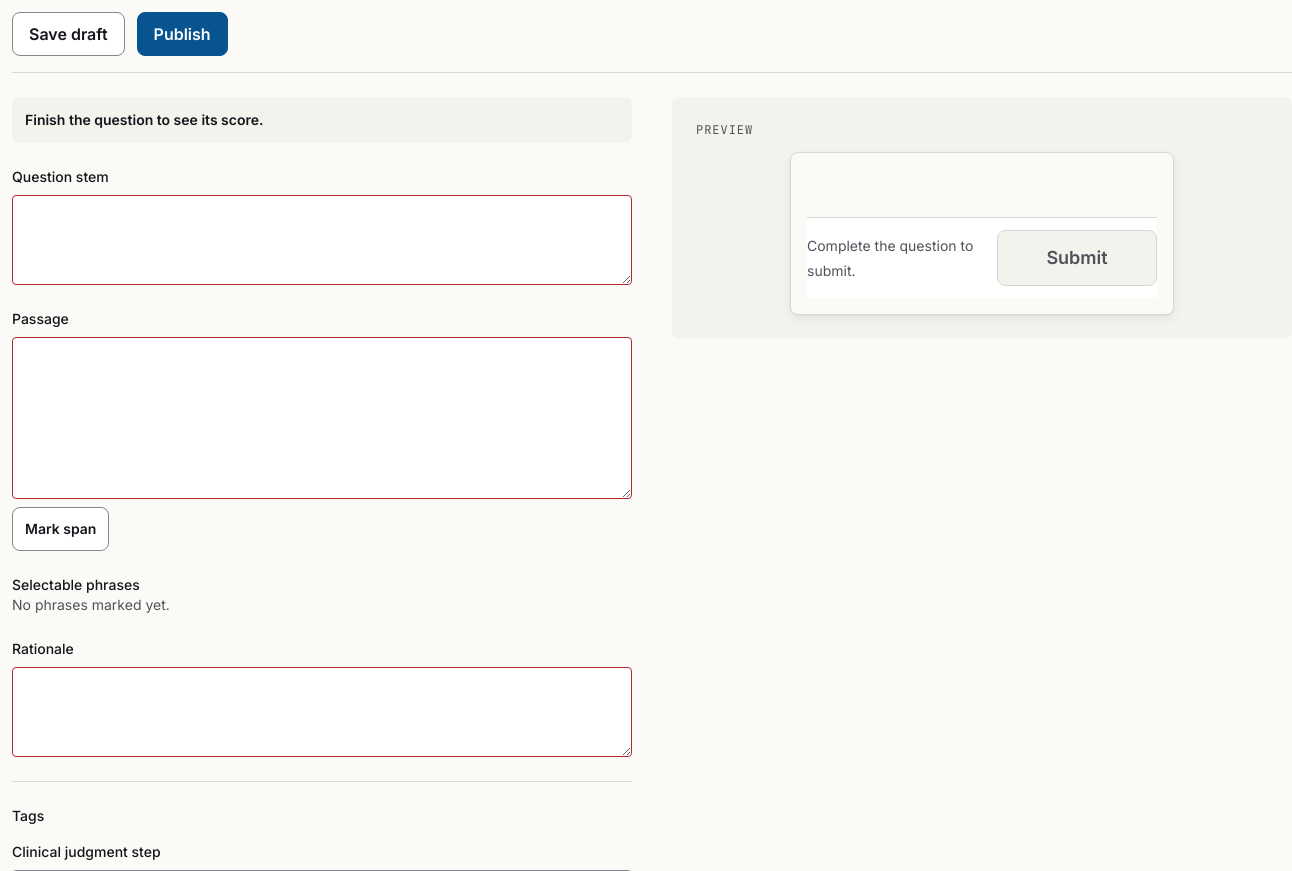
Test: HighlightTextEditor › says to select a phrase first when nothing is selected
What coordinates should you click on to do the following:
click the button "Mark span"
I would click on:
 (61, 529)
Its box is 12,507 -> 109,551.
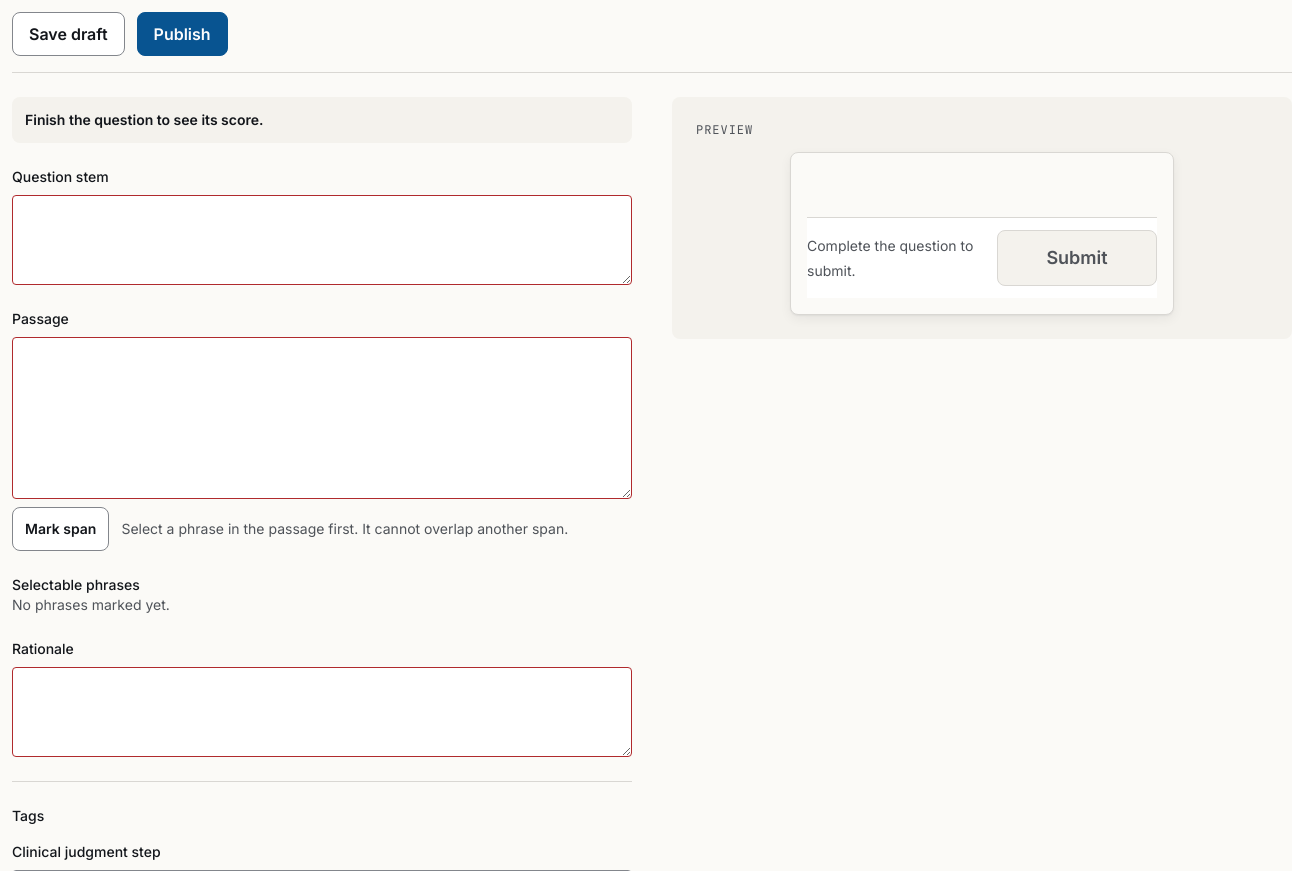
expect the message shows "Select a phrase in the passage first.": met, box 121,520 -> 568,537
